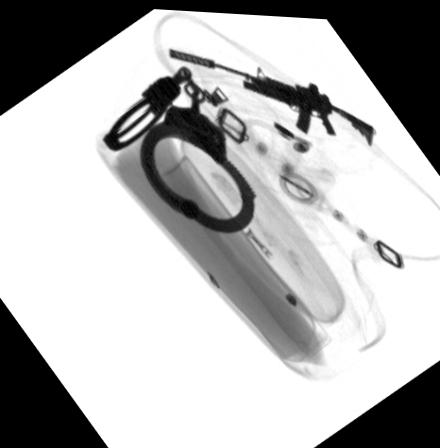Gun: (167, 45, 372, 143)
HandCuffs: (100, 62, 258, 231)
